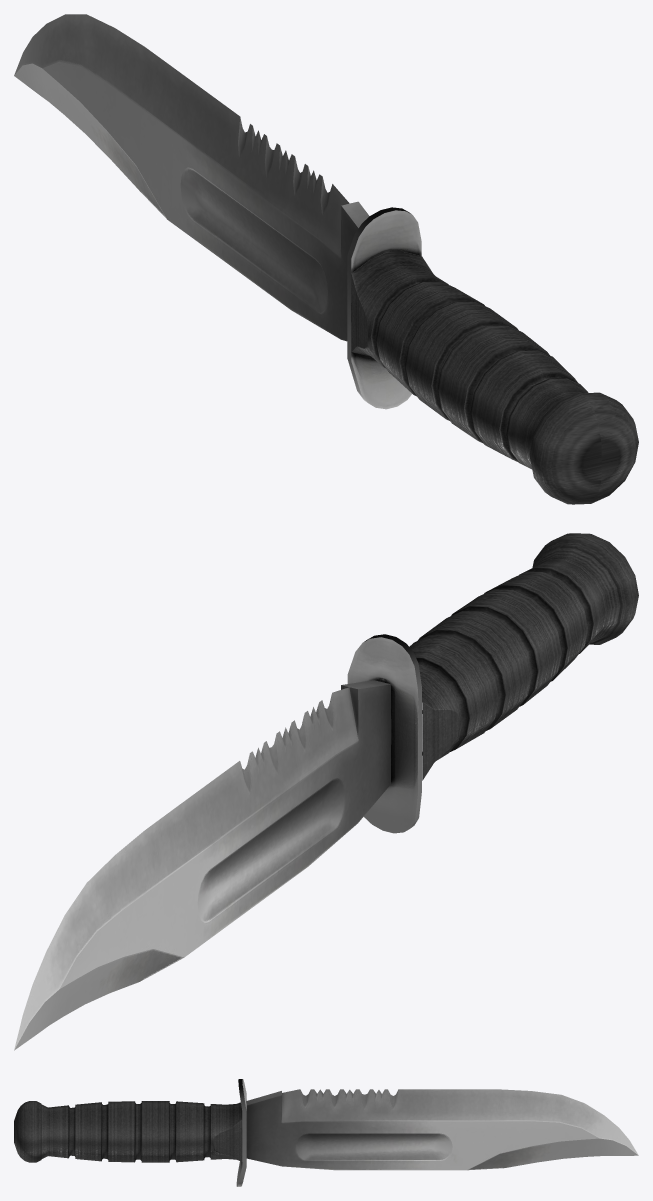
File: kabar.glb
The picture shows the model from 3 angles, top to bottom: view 1: azimuth 30°, elevation 25°; view 2: azimuth 150°, elevation 25°; view 3: azimuth 270°, elevation 25°; orthographic projection. The views are drawn at different scales.
Visible parts, largest first — view 1: Kabar; view 2: Kabar; view 3: Kabar.
Boxes of the visible parts, <box> form: Kabar: <box>14,14,638,504</box>; Kabar: <box>14,533,638,1050</box>; Kabar: <box>14,1079,638,1186</box>.
Bounding box in the file's own units: 0.0365 × 0.0672 × 0.3674.
Materials: 1 (1 with a texture image).
